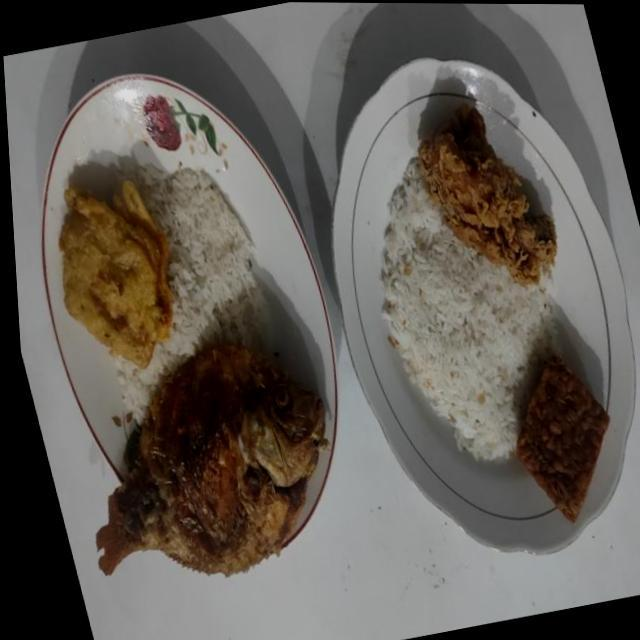ikan_mujair: (98, 343, 328, 574)
nasi_putih: (381, 158, 553, 460), (115, 163, 272, 423)
tempe_goreng: (516, 355, 610, 522)
